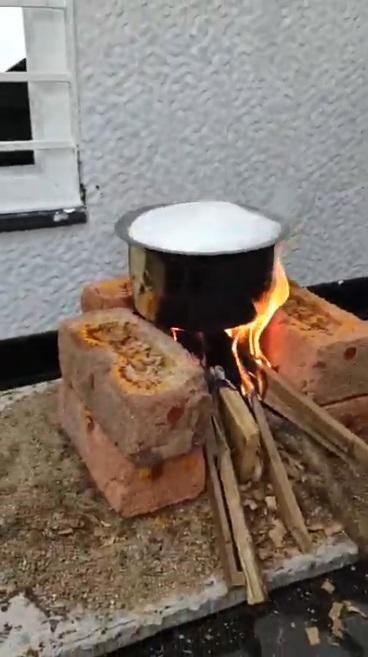Boiled: (111, 191, 296, 365)
